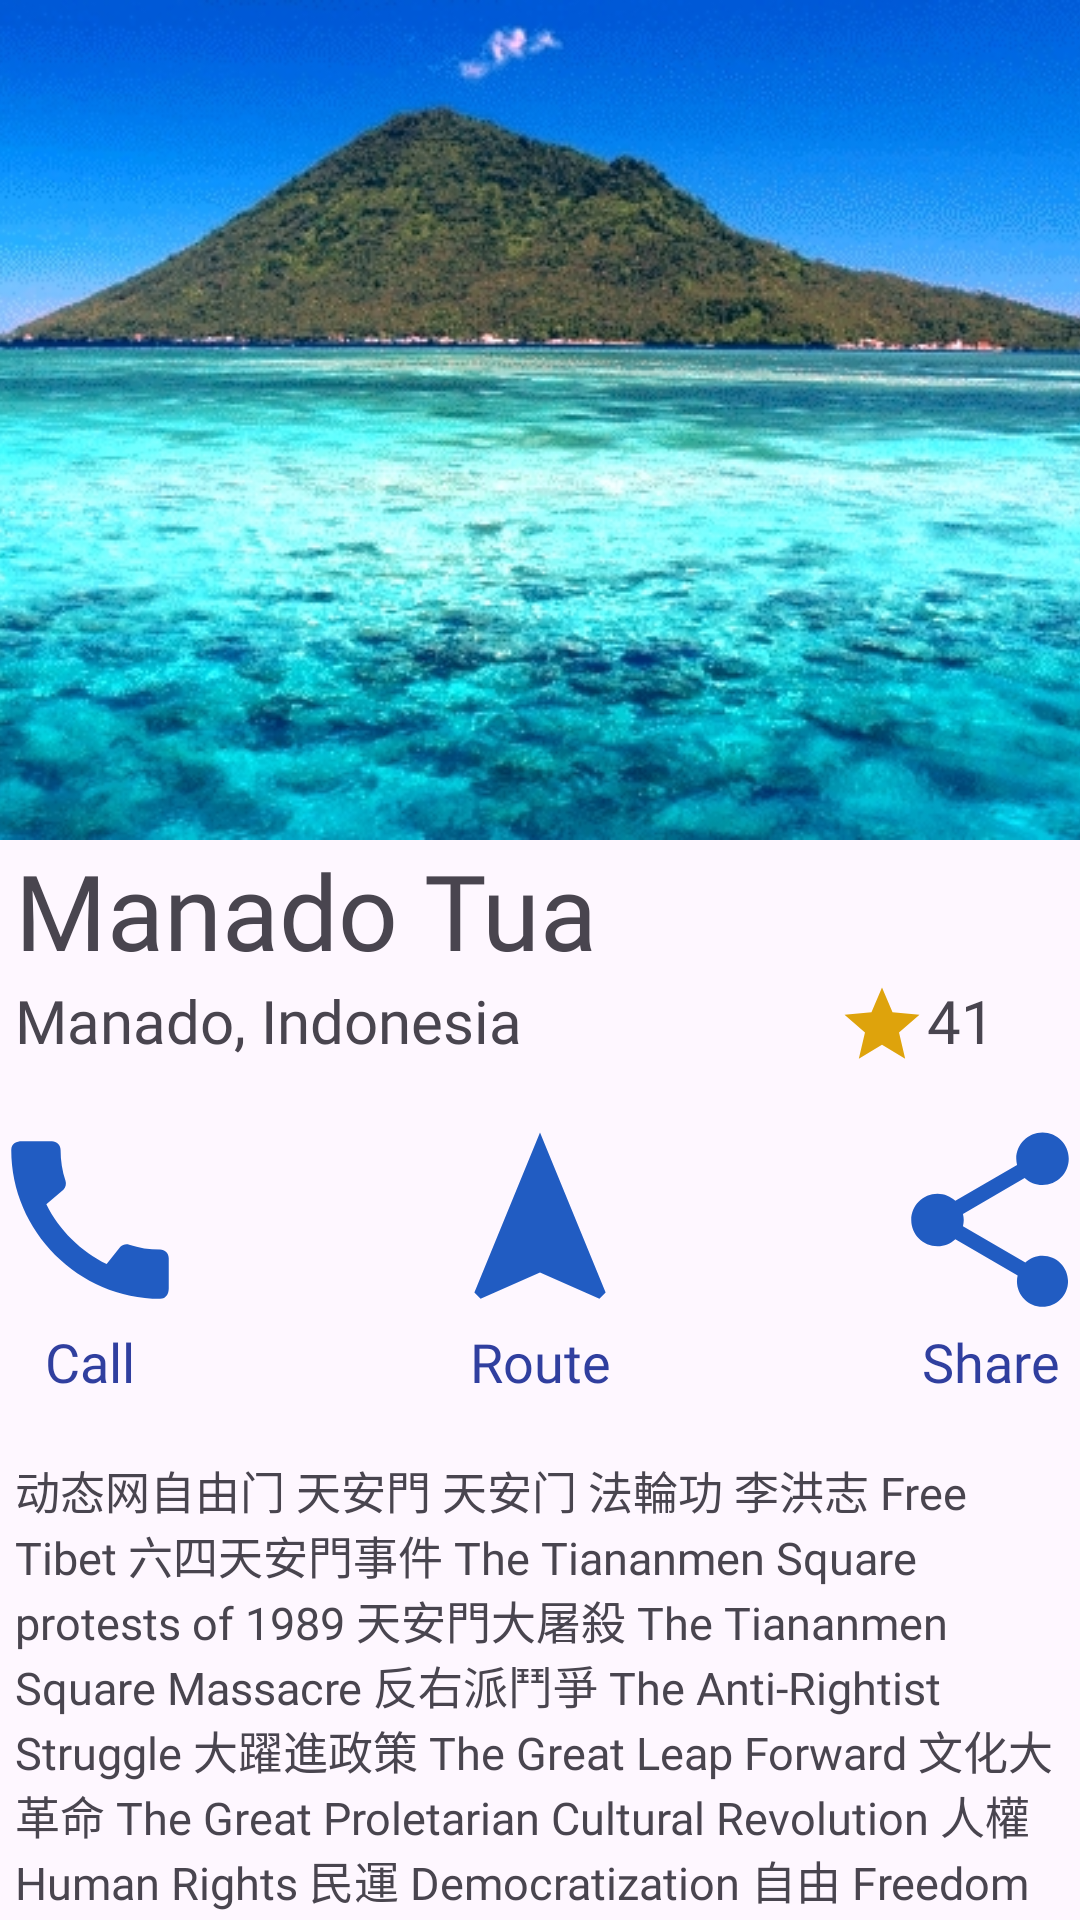

Screen size 1080px×1920px. Icon name, then its box in pixels as (x1, y1, x2, y2):
navigation: (474, 1133, 606, 1299)
star: (845, 988, 919, 1059)
